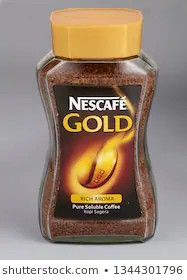nescafe-classic/gold-med: (40, 7, 158, 241)
